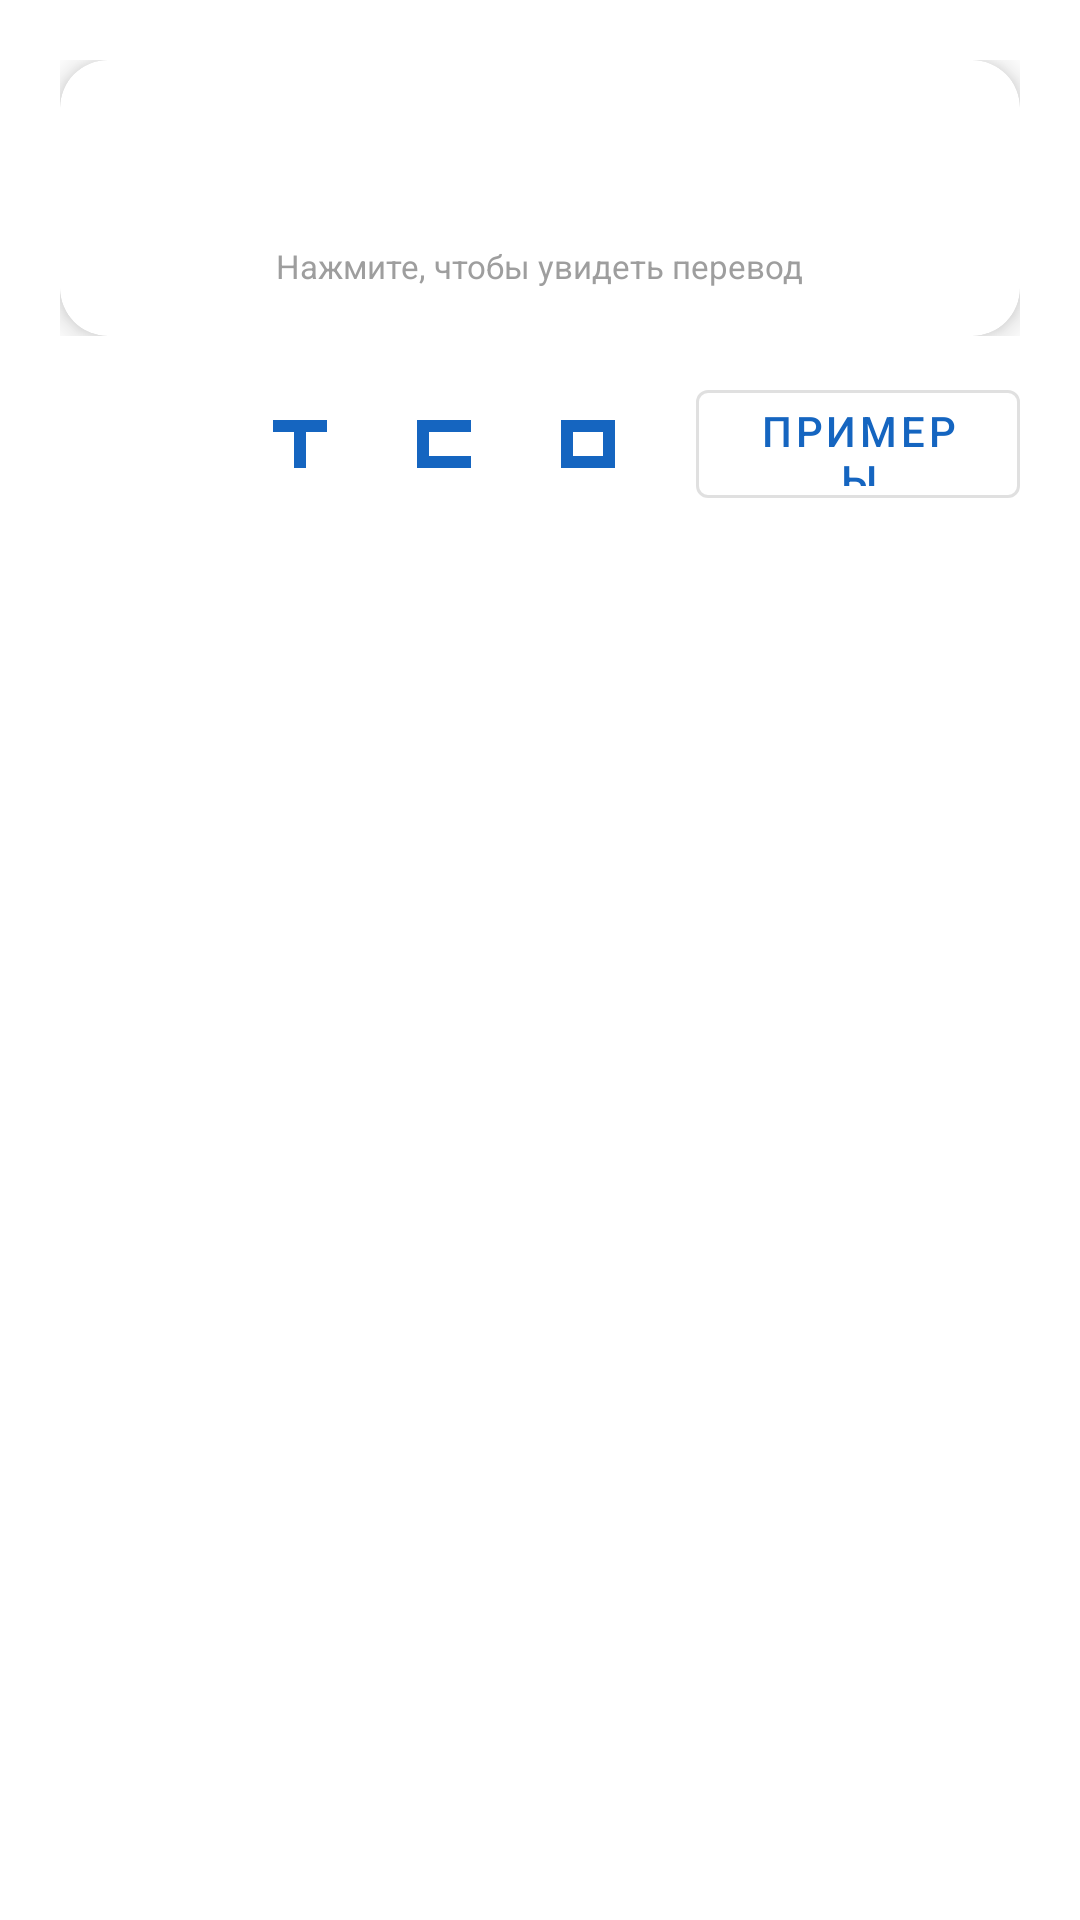

Icon click points for this 1080px x 1920px phone screenshot, format [x,y]:
Транслитерация: [300,444]
